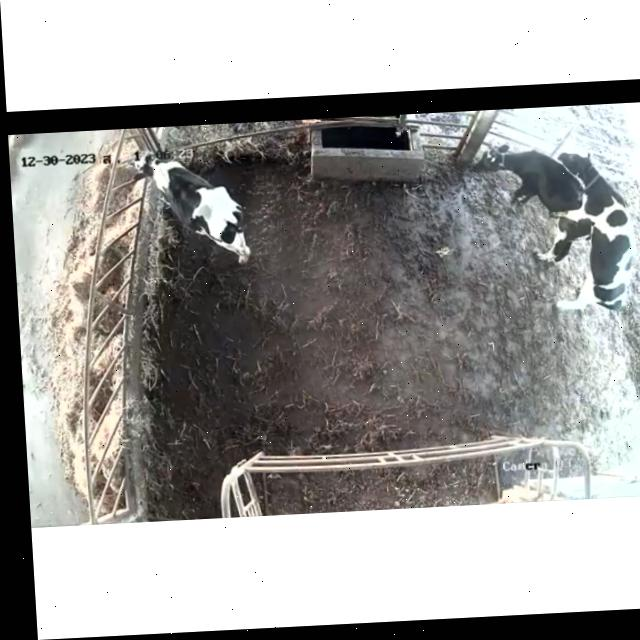ride: (543, 139, 638, 325)
stand: (465, 133, 588, 279), (131, 141, 261, 278)
